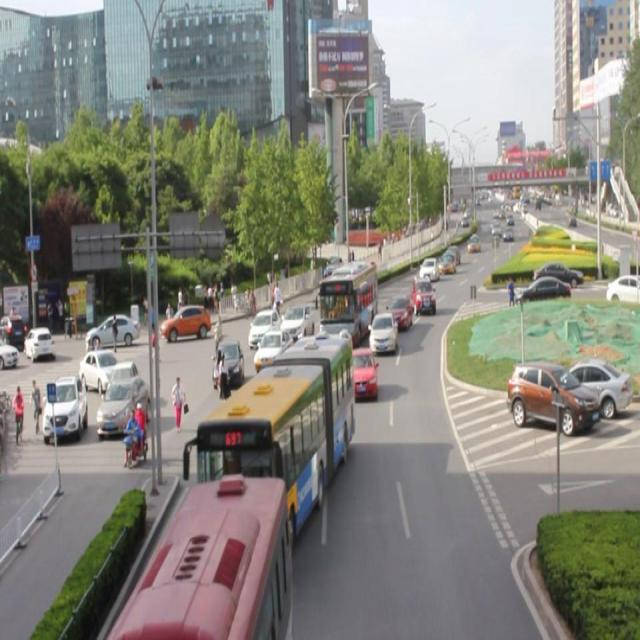BigCar: (318, 261, 381, 341)
car: (504, 358, 603, 449), (94, 378, 151, 448), (82, 303, 148, 357), (46, 372, 85, 445), (158, 306, 215, 346), (362, 310, 404, 361), (208, 338, 247, 390), (247, 307, 280, 347)
